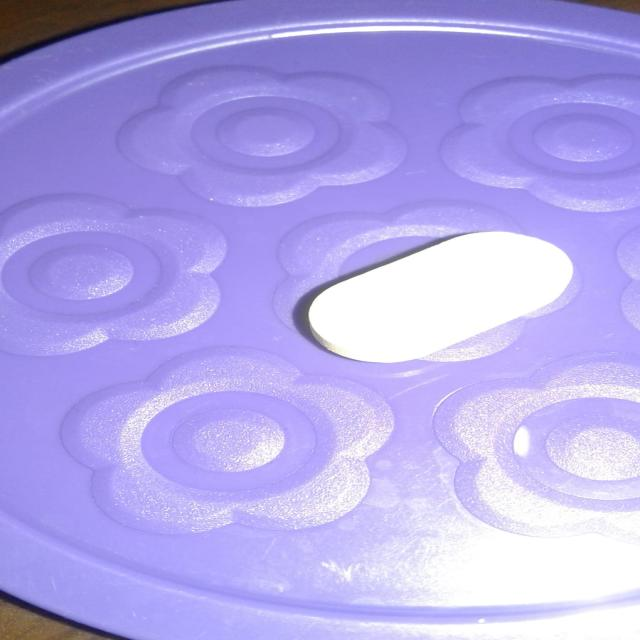pills: (280, 212, 594, 368)
